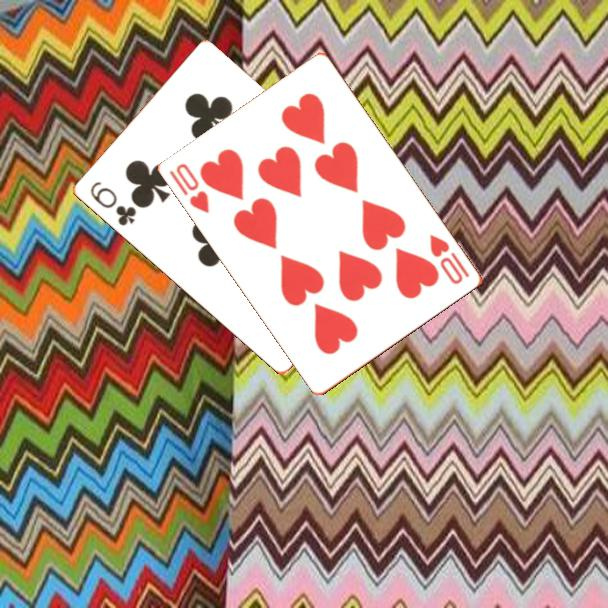c06: (86, 178, 139, 229)
h10: (426, 231, 473, 288), (166, 160, 213, 216)
